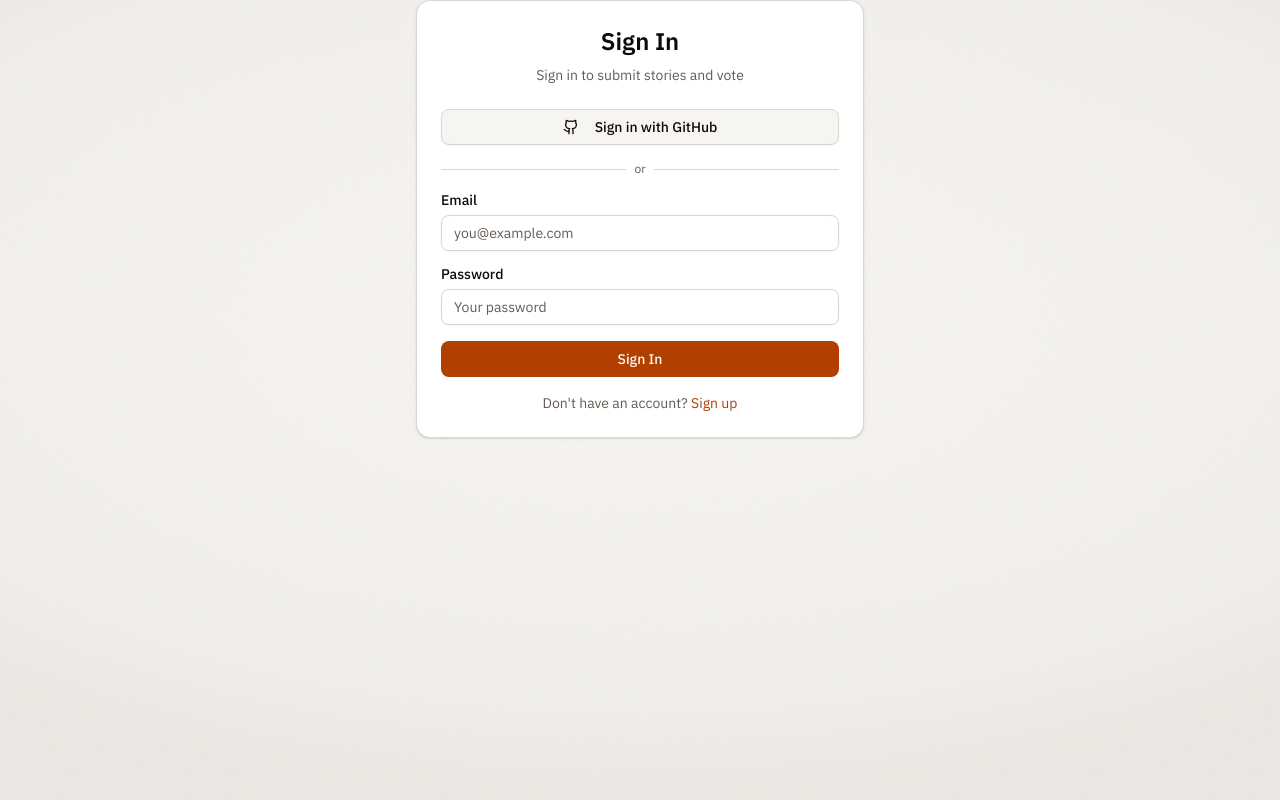
Test: LoginForm › shows error state when signIn fails
Type "test@example.com" into the field labelled "Email" at {"x": 640, "y": 233}, box [441,215,839,251]
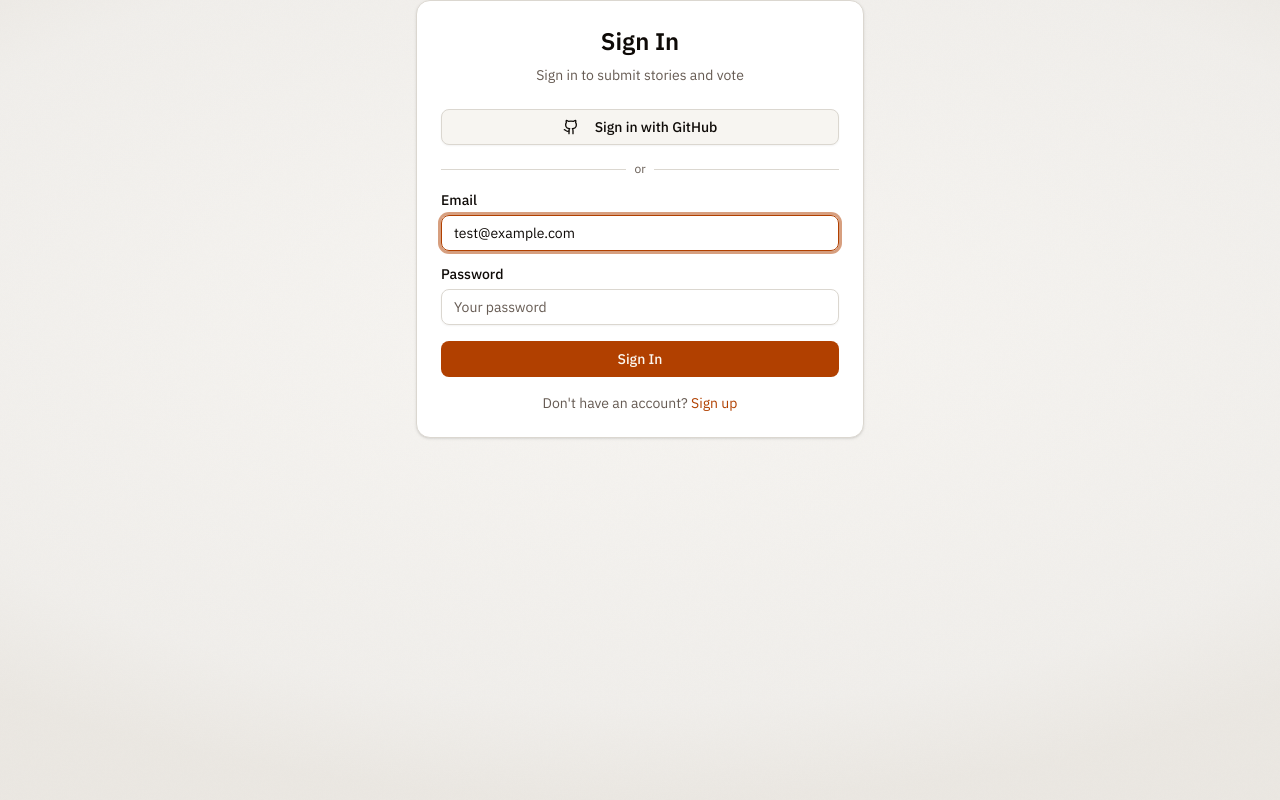
Type "wrong" into the password field labelled "Password" at {"x": 640, "y": 307}, box [441,289,839,325]
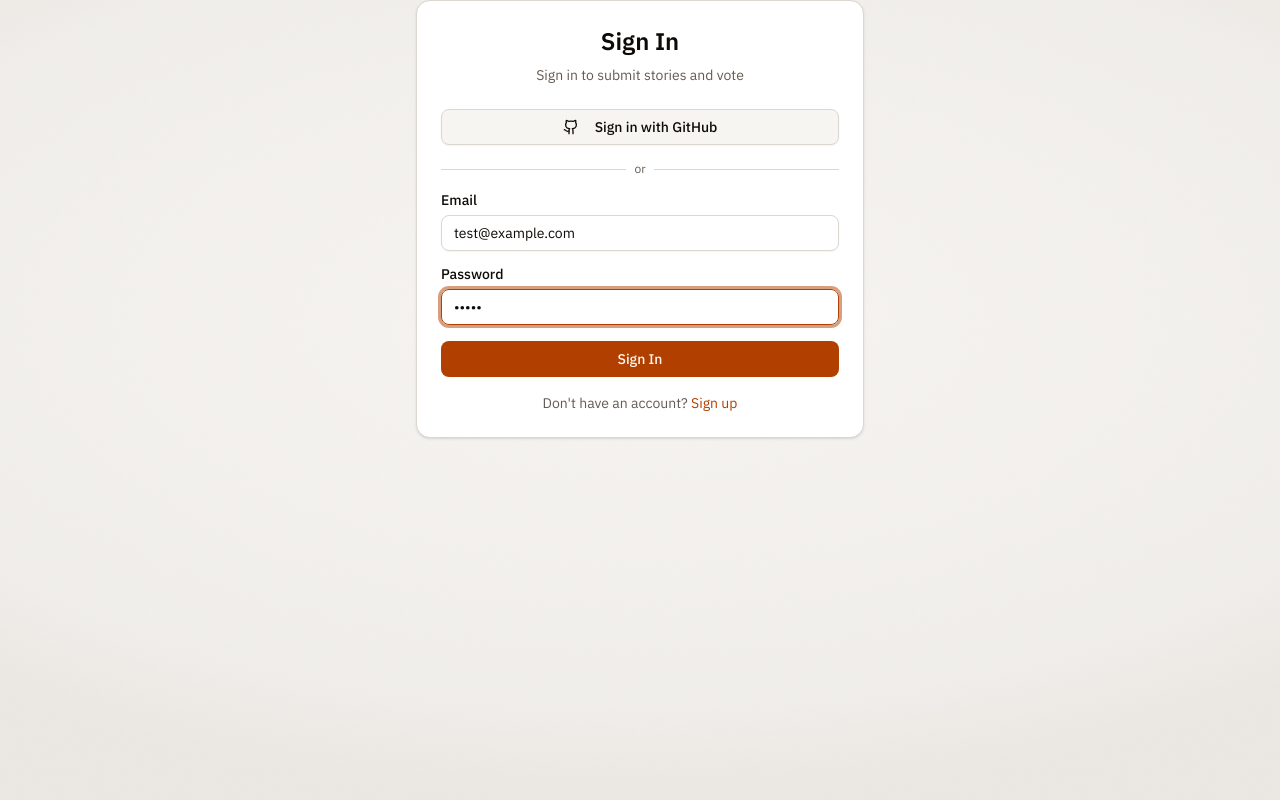
Click the button "Sign In" at {"x": 640, "y": 359}, box [441,341,839,377]
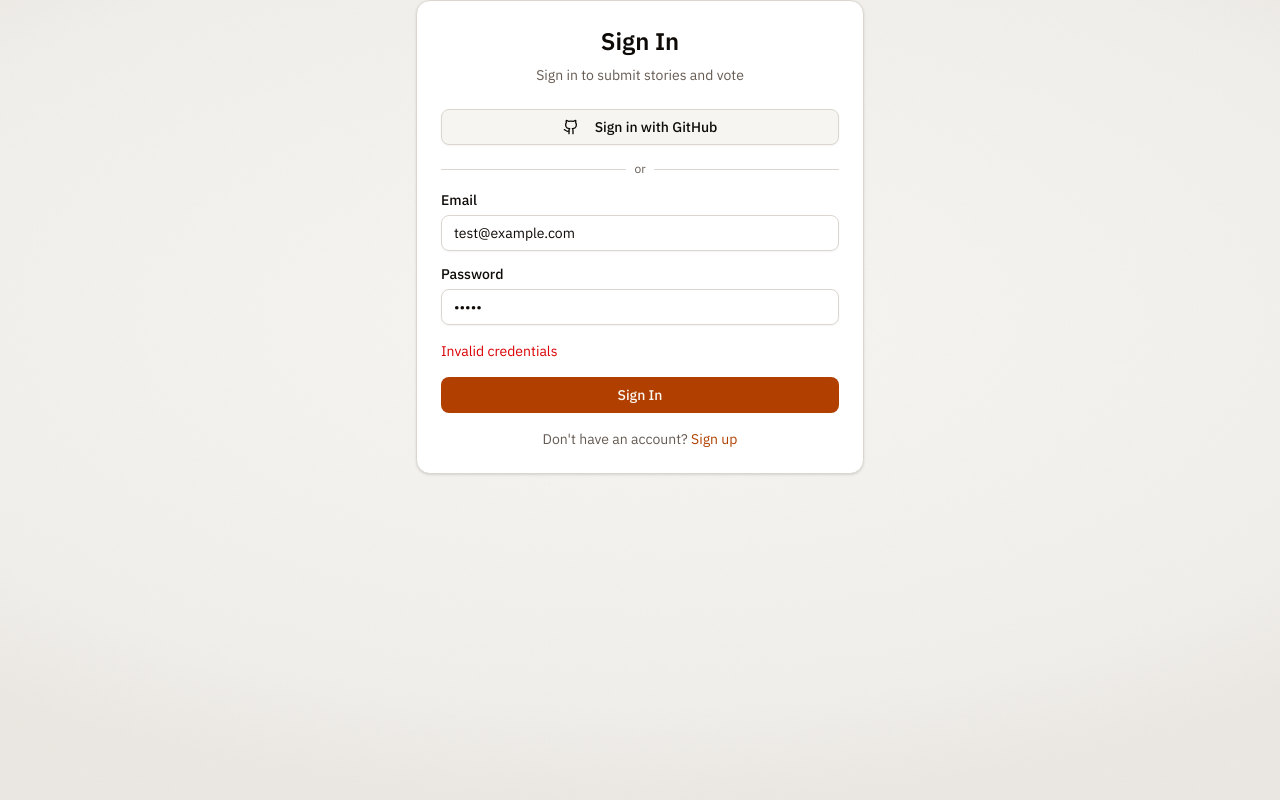
Expected: the text "Invalid credentials" is shown, [441,342,558,360]
